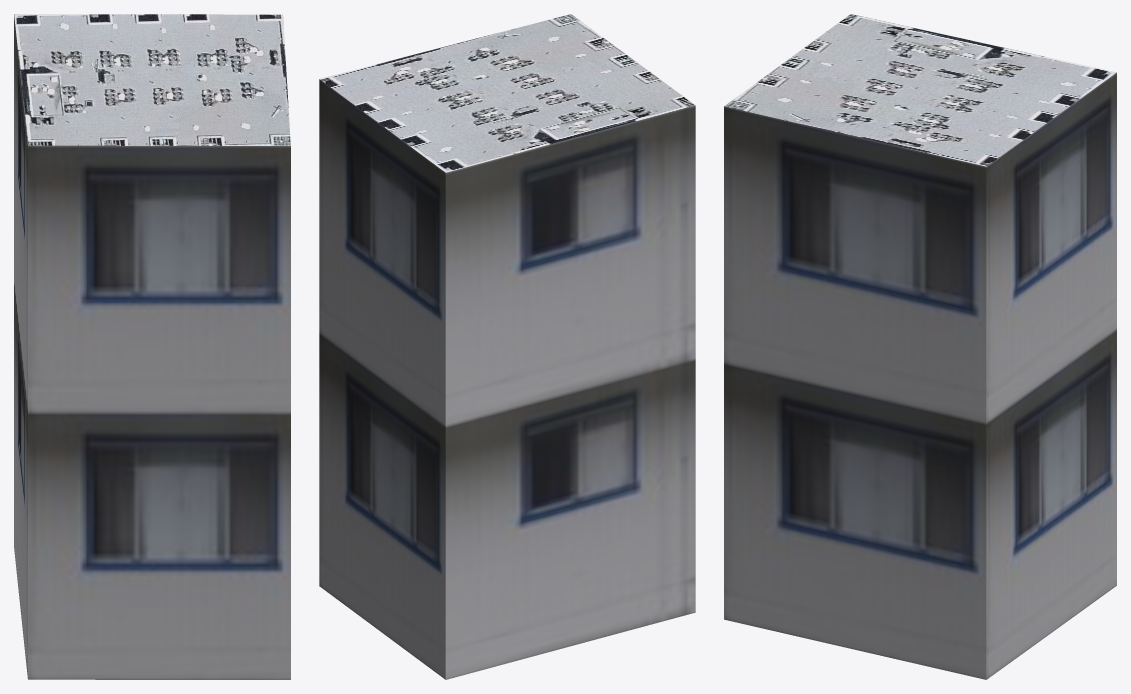
The model's file is ResTex__642.fbx.
3 renders of one model, left to right at view 1: azimuth 30°, elevation 25°; view 2: azimuth 150°, elevation 25°; view 3: azimuth 270°, elevation 25°, orthographic. The views are drawn at different scales.
Parts seen in each view (by area): view 1: CityEngineMaterial_9_m, CityEngineMaterial_4_m; view 2: CityEngineMaterial_9_m, CityEngineMaterial_4_m; view 3: CityEngineMaterial_9_m, CityEngineMaterial_4_m.
Boxes of the visible parts, x1=… form: CityEngineMaterial_9_m: x1=14, y1=14, x2=290, y2=679; CityEngineMaterial_4_m: x1=14, y1=14, x2=290, y2=145; CityEngineMaterial_9_m: x1=319, y1=79, x2=695, y2=679; CityEngineMaterial_4_m: x1=319, y1=14, x2=695, y2=172; CityEngineMaterial_9_m: x1=724, y1=72, x2=1116, y2=679; CityEngineMaterial_4_m: x1=724, y1=14, x2=1116, y2=166.
Size of the model in its own units: 3.83 by 6 by 4.16.
2 materials, 2 textured.
